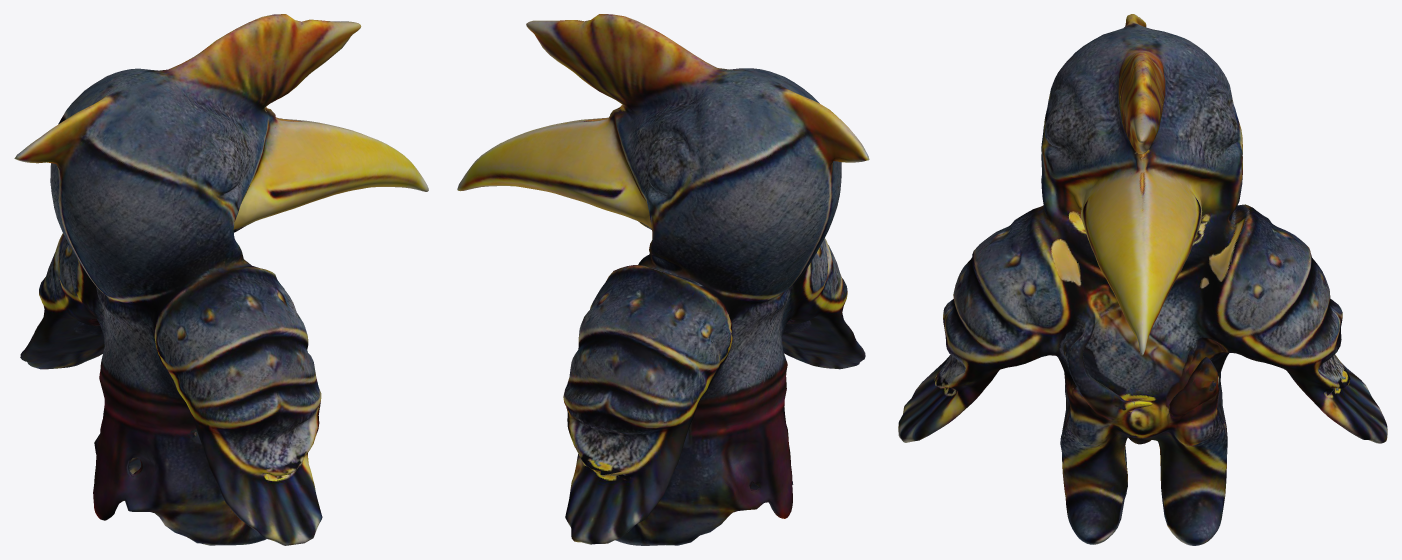
The model's file is cb515154387f_armored_chibi_knigh.fbx.
The picture shows the model from 3 angles, left to right: view 1: azimuth 30°, elevation 25°; view 2: azimuth 150°, elevation 25°; view 3: azimuth 270°, elevation 25°; orthographic projection.
Visible parts, largest first — view 1: mesh; view 2: mesh; view 3: mesh.
Boxes of the visible parts, bbox=[...] form: mesh: bbox=[14, 14, 428, 545]; mesh: bbox=[457, 14, 869, 545]; mesh: bbox=[898, 14, 1387, 545].
Bounding box in the file's own units: 86.98 × 99.81 × 89.73.
